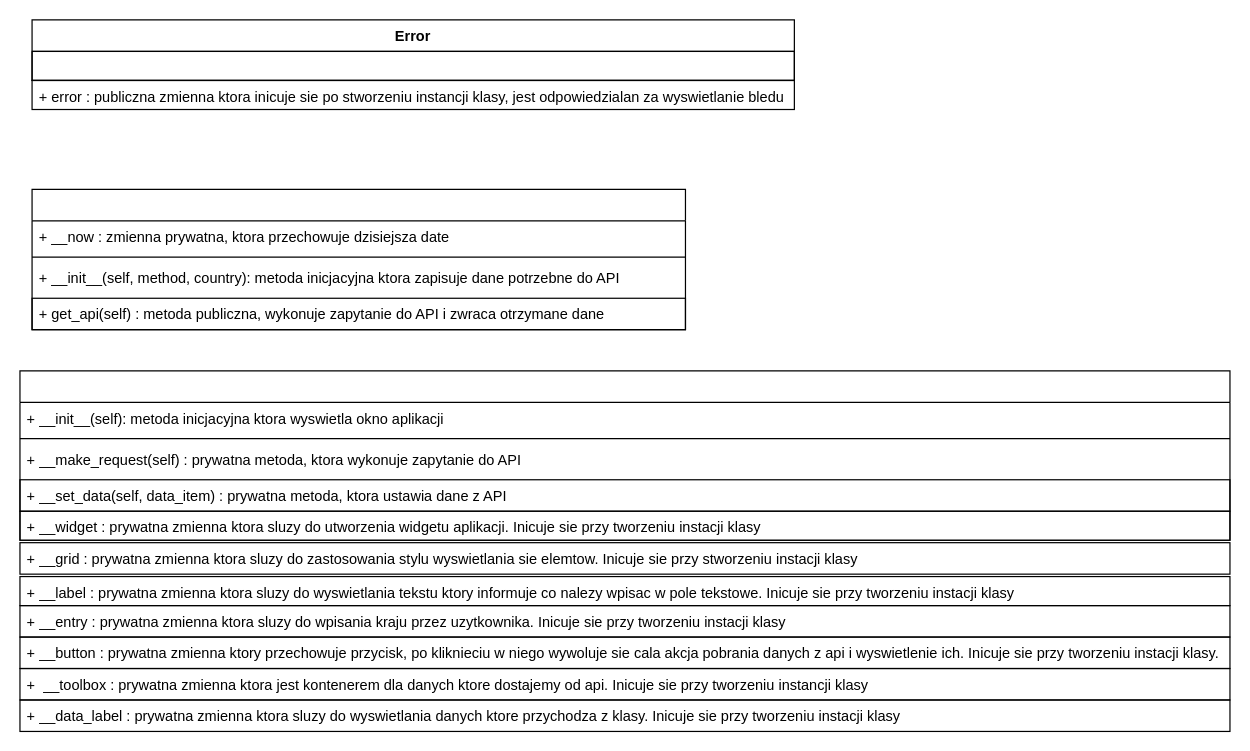
This 1250x751 diagram has some shape labels left out. The shapes that lost their labels are listed below. From the top down, each one's box as (x1, y1, x2, y2) in pixels, then its label:
(31, 50, 794, 80): + __init__(self, error_text): metoda inicjacyjna ktora generuje blad.
(31, 188, 685, 330): Request
(19, 370, 1230, 540): Window
